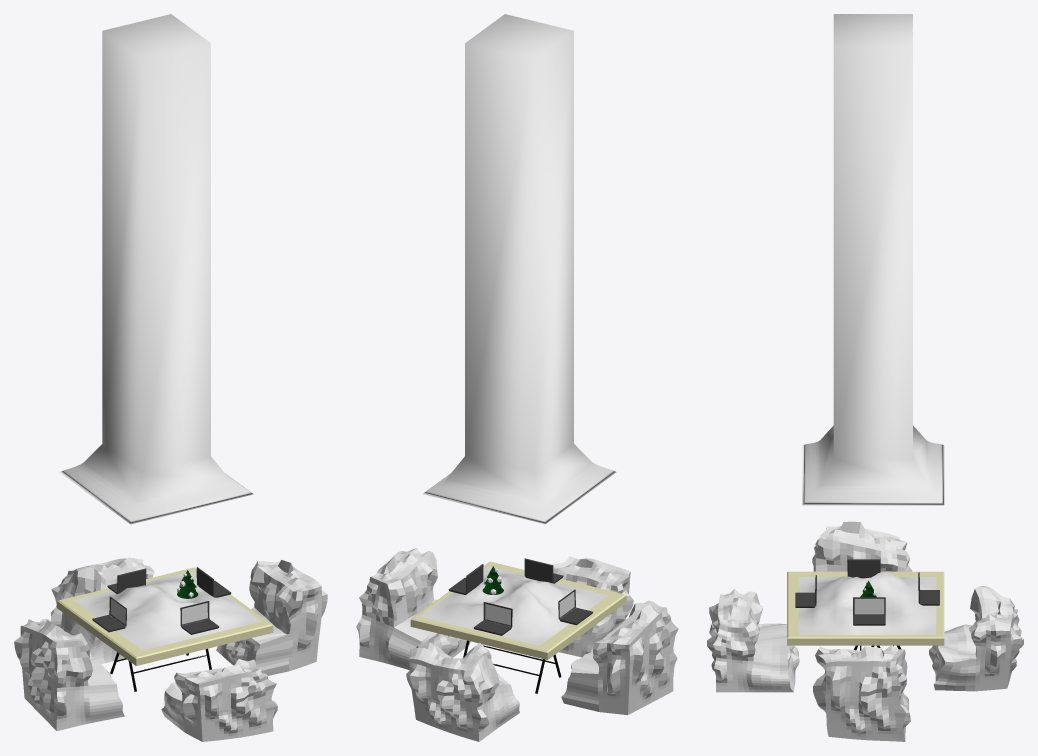
File: Mesa pinguinos.fbx
The picture shows the model from 3 angles, left to right: view 1: azimuth 30°, elevation 25°; view 2: azimuth 150°, elevation 25°; view 3: azimuth 270°, elevation 25°; orthographic projection.
Parts seen in each view (by area): view 1: Cube; view 2: Cube; view 3: Cube.
Boxes of the visible parts, x1,y1,x2,y2 form: Cube: (14,14,327,741); Cube: (356,14,678,741); Cube: (707,14,1023,741).
Bounding box in the file's own units: 830 × 1789 × 799.
